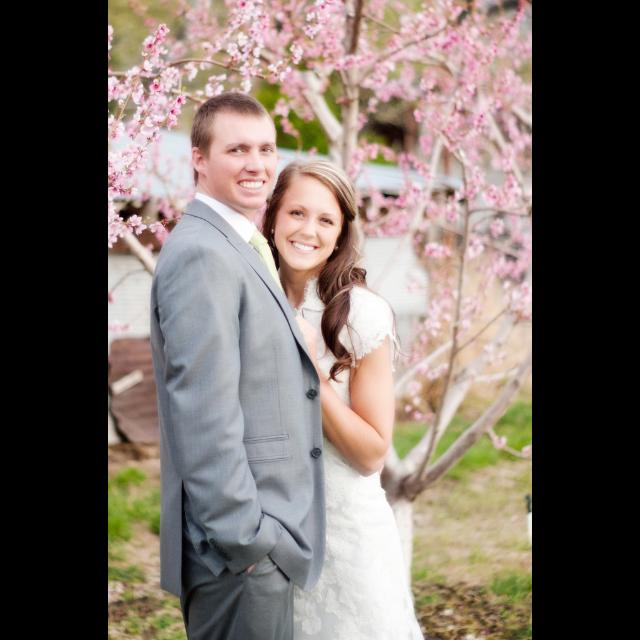Flower: (109, 0, 532, 420)
